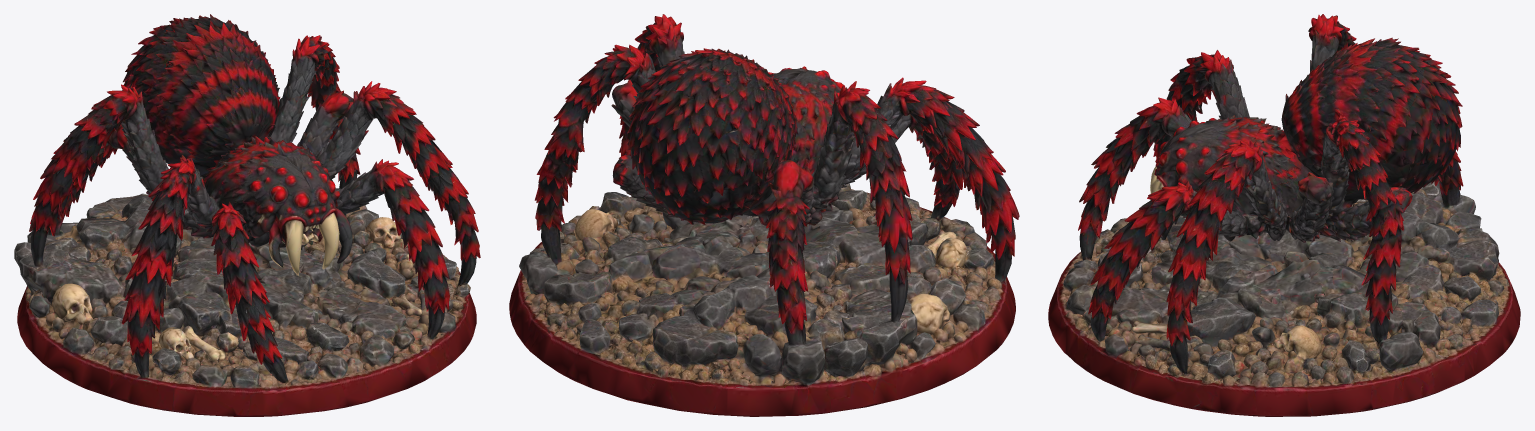
Rendered from caveSpider.glb.
3 renders of one model, left to right at view 1: azimuth 30°, elevation 25°; view 2: azimuth 150°, elevation 25°; view 3: azimuth 270°, elevation 25°, orthographic. The views are drawn at different scales.
Size of the model in its own units: 1.9 by 1.21 by 1.9.
1 material, 1 textured.
